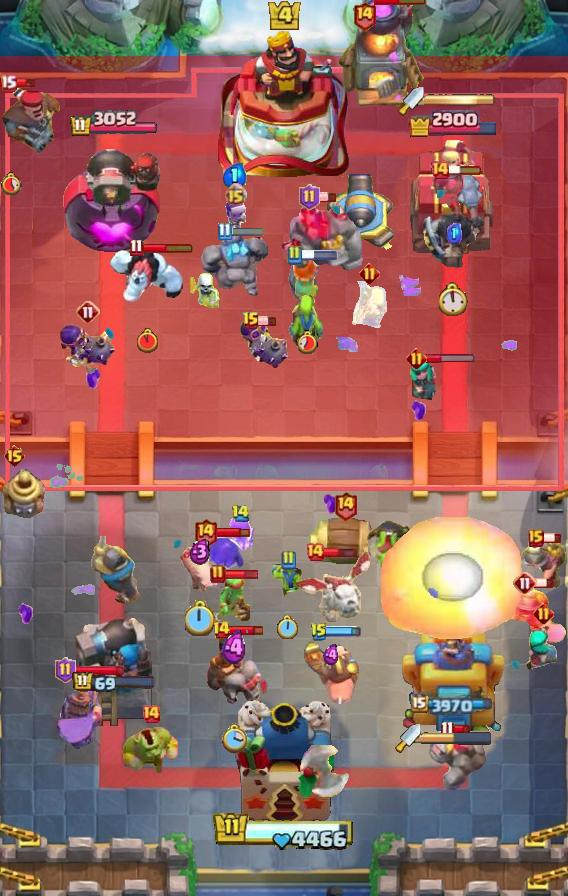axe: (287, 745, 353, 797)
bar: (74, 664, 125, 677), (141, 242, 194, 254), (425, 353, 476, 364), (229, 624, 264, 637), (323, 546, 358, 559), (447, 164, 483, 176), (0, 77, 36, 89), (215, 526, 250, 538), (326, 626, 361, 637), (224, 569, 259, 580), (230, 226, 265, 237), (300, 250, 338, 260), (374, 0, 427, 6), (534, 577, 554, 589), (542, 532, 562, 544), (452, 724, 471, 735), (258, 316, 277, 327), (318, 192, 337, 203)
bar-level: (193, 517, 218, 548), (333, 490, 358, 521), (352, 0, 377, 31), (513, 571, 537, 595), (76, 300, 100, 324), (3, 444, 26, 468), (55, 657, 76, 683), (299, 184, 320, 210), (224, 183, 247, 206), (533, 603, 554, 624), (406, 348, 427, 369), (359, 263, 380, 284), (141, 704, 161, 724), (305, 542, 325, 562), (430, 160, 450, 180), (212, 620, 231, 640), (231, 504, 250, 523), (310, 622, 328, 642), (242, 311, 260, 331), (0, 74, 17, 93), (210, 564, 226, 584), (280, 550, 296, 570), (286, 245, 302, 265), (528, 529, 544, 547), (440, 720, 455, 739), (129, 238, 144, 257), (217, 222, 232, 241)
barbarian-barrel: (307, 518, 383, 568)
barbarian-evolution: (349, 281, 390, 329)
bomber-evolution: (58, 322, 118, 378), (238, 317, 290, 373)
cannoneer-tower: (62, 138, 166, 256), (71, 611, 157, 731)
clock: (185, 600, 216, 636), (439, 282, 469, 316), (221, 723, 247, 754), (277, 615, 299, 641), (296, 330, 319, 354), (137, 328, 158, 353), (0, 172, 22, 195)
dagger-duchess-tower: (401, 615, 506, 731), (409, 138, 497, 256)
dagger-duchess-tower-bar: (421, 731, 493, 745), (424, 93, 496, 107)
electro-spirit: (202, 534, 244, 574)
elixir: (221, 630, 248, 666), (223, 163, 247, 189), (189, 538, 211, 565), (323, 644, 340, 666), (447, 223, 462, 243)
goblin: (285, 293, 323, 351), (270, 559, 306, 599)
goblin-ball: (365, 517, 415, 577)
goblin-brawler: (122, 724, 180, 778)
golemite: (197, 231, 269, 299), (428, 727, 492, 795)
hog: (177, 544, 223, 596)
hunter: (0, 82, 62, 154)
king-tower: (218, 27, 350, 181), (234, 700, 334, 826)
king-tower-bar: (213, 811, 355, 852)
knight: (90, 536, 141, 606)
miner: (508, 581, 568, 649), (514, 537, 568, 589)
ram-rider: (205, 630, 263, 706)
rascal-girl: (524, 623, 562, 673), (409, 360, 449, 404)
skeleton: (188, 272, 220, 308)
skeleton-evolution: (225, 514, 256, 554), (223, 197, 247, 233)
spear-goblin: (210, 574, 250, 624)
tower-bar: (407, 108, 499, 137), (69, 110, 159, 138), (72, 671, 156, 694), (411, 694, 495, 715)
valkyrie: (288, 255, 326, 307)
zappy: (0, 468, 46, 520)
